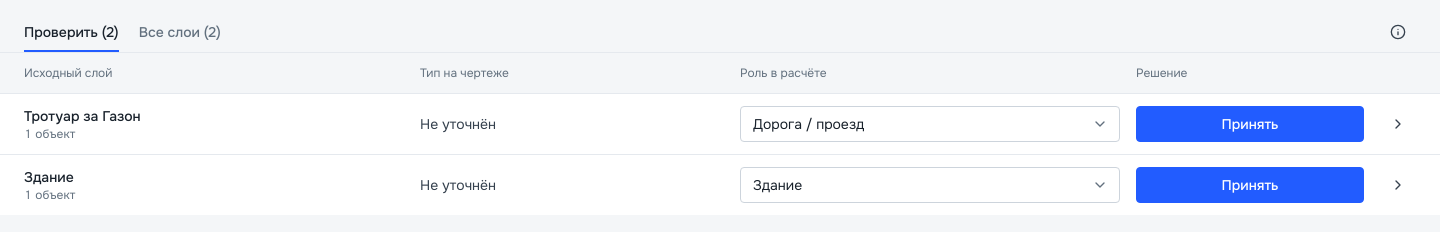
searches full names in the shared table without changing decisions
This screenshot has width=1440, height=232.
Click the tab "Все слои (2)" at [180, 32], box [139,12,221,52]
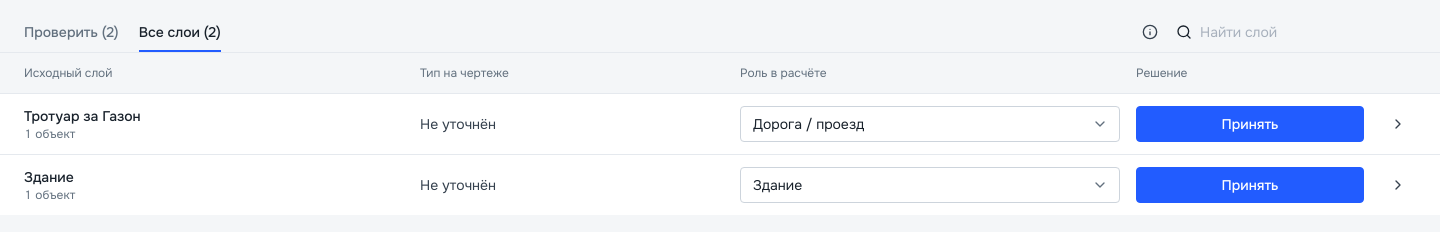
Type "газон" into the field named "Поиск слоя" at [1296, 32], box [1176,12,1416,52]
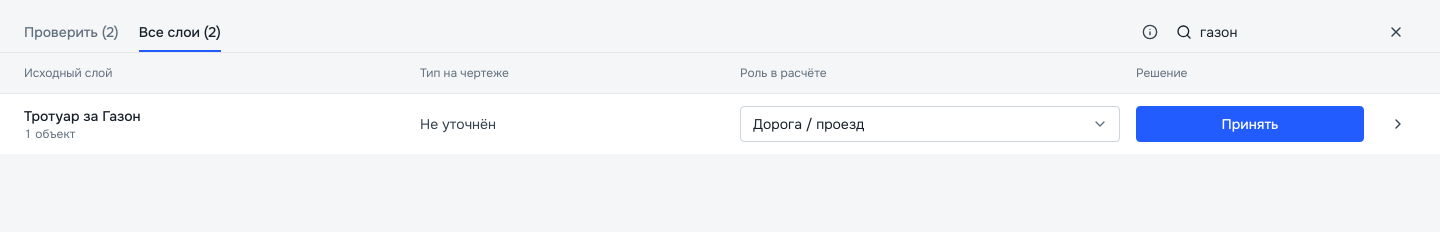
Expected: the text "Тротуар за Газон" is shown, [24,107,141,125]
Result: the text "Здание" is gone
